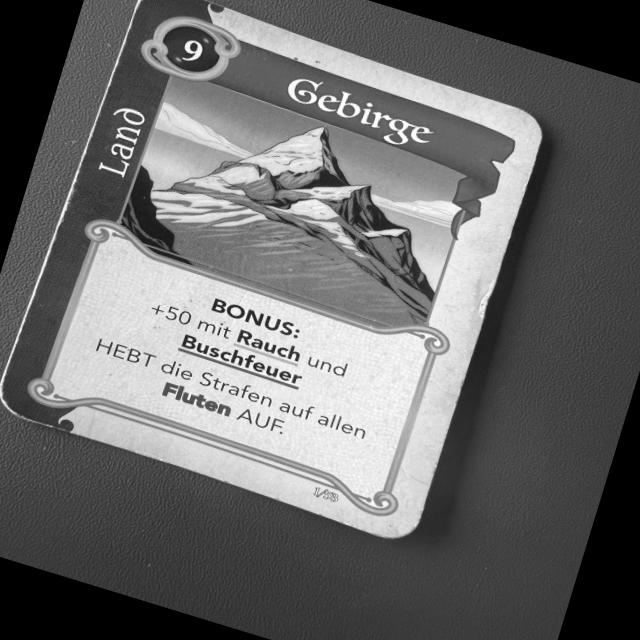Mountain: (0, 0, 548, 547)
